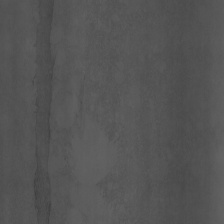water_spot: (29, 4, 61, 220)
